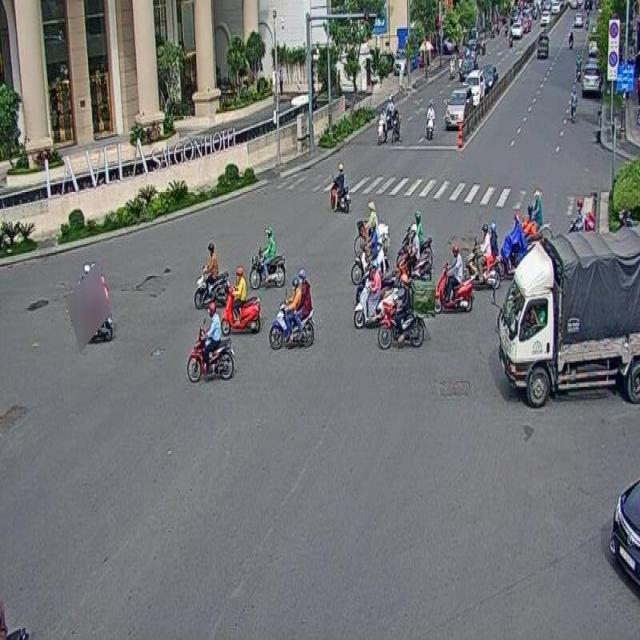bicycle: (352, 200, 390, 258)
motorcycle: (268, 265, 314, 351), (187, 302, 236, 381), (378, 272, 427, 348), (352, 258, 397, 329), (430, 241, 472, 311), (74, 273, 114, 344), (220, 266, 261, 334), (192, 238, 230, 309), (464, 222, 501, 290), (248, 224, 285, 288), (329, 161, 351, 215)
truck: (496, 221, 640, 411)
